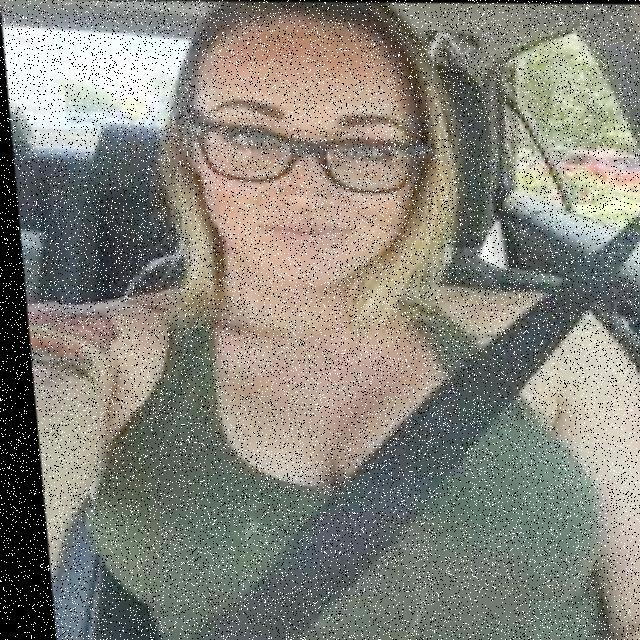seatbelt: (98, 274, 591, 640)
